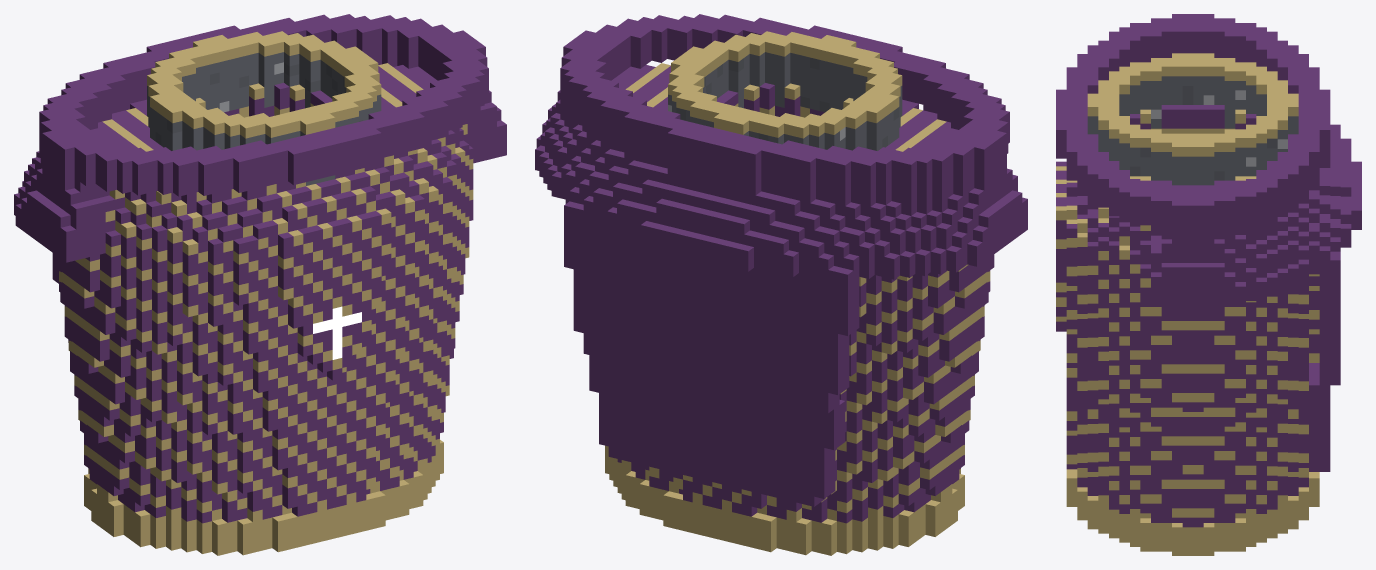
File: leather_legendary_chest.glb
3 renders of one model, left to right at view 1: azimuth 30°, elevation 25°; view 2: azimuth 150°, elevation 25°; view 3: azimuth 270°, elevation 25°, orthographic. The views are drawn at different scales.
Parts seen in each view (by area): view 1: leather_legendary_chest; view 2: leather_legendary_chest; view 3: leather_legendary_chest.
Boxes of the visible parts, left/top/right/bottom form: leather_legendary_chest: left=14, top=14, right=506, bottom=555; leather_legendary_chest: left=535, top=14, right=1027, bottom=555; leather_legendary_chest: left=1056, top=14, right=1361, bottom=555.
Size of the model in its own units: 0.54 by 0.48 by 0.348.
